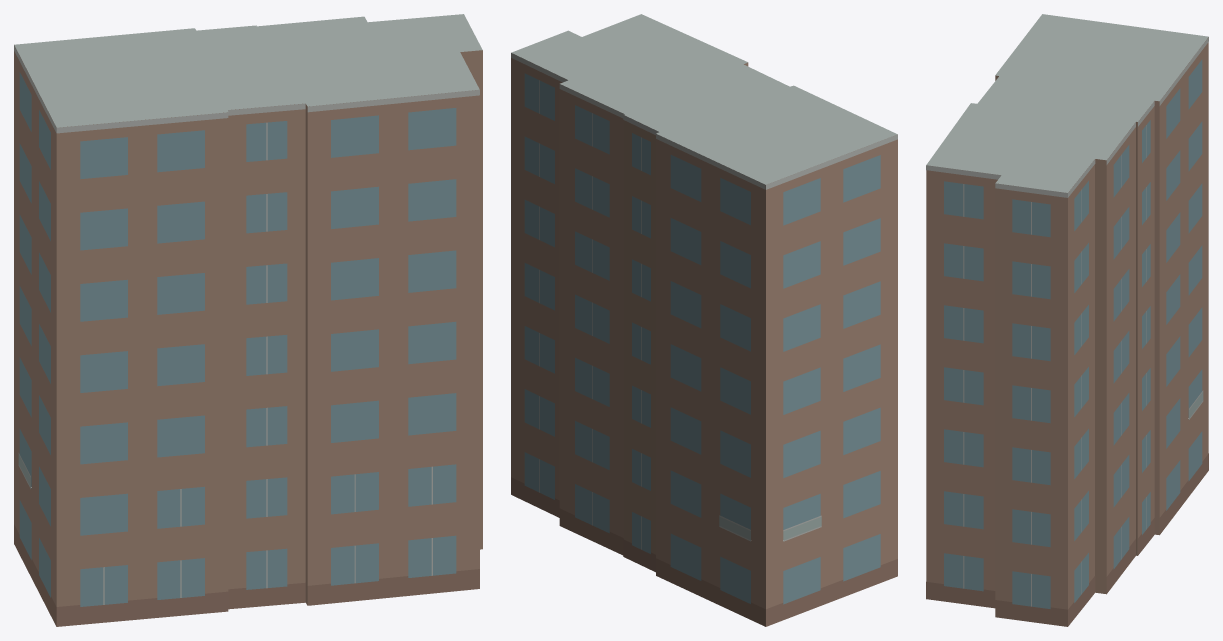
Rendered from survey-upis-32602693.glb.
The picture shows the model from 3 angles, left to right: view 1: azimuth 30°, elevation 25°; view 2: azimuth 150°, elevation 25°; view 3: azimuth 270°, elevation 25°; orthographic projection. The views are drawn at different scales.
Parts seen in each view (by area): view 1: survey-upis-32602693.tmp; view 2: survey-upis-32602693.tmp; view 3: survey-upis-32602693.tmp.
Boxes of the visible parts, x1,y1,x2,y2 form: survey-upis-32602693.tmp: [14, 14, 482, 626]; survey-upis-32602693.tmp: [511, 14, 897, 626]; survey-upis-32602693.tmp: [926, 14, 1208, 626].
Bounding box in the file's own units: 18.86 × 21.3 × 12.59.
